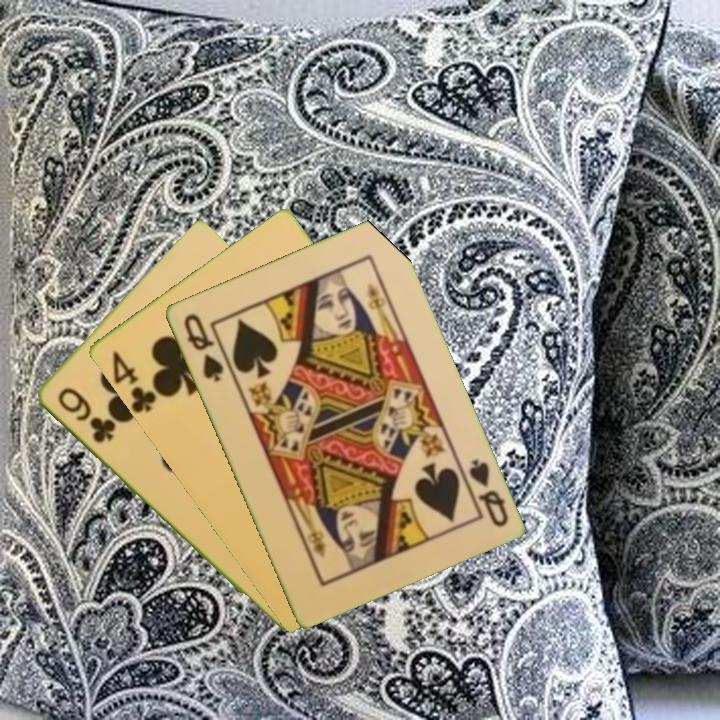4c: (108, 347, 159, 416)
9c: (53, 384, 117, 446)
Qs: (456, 455, 511, 530), (179, 310, 226, 385)
